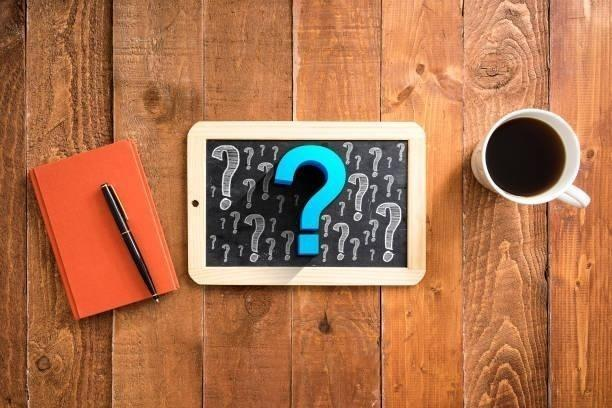cup-handle: (470, 107, 591, 210)
